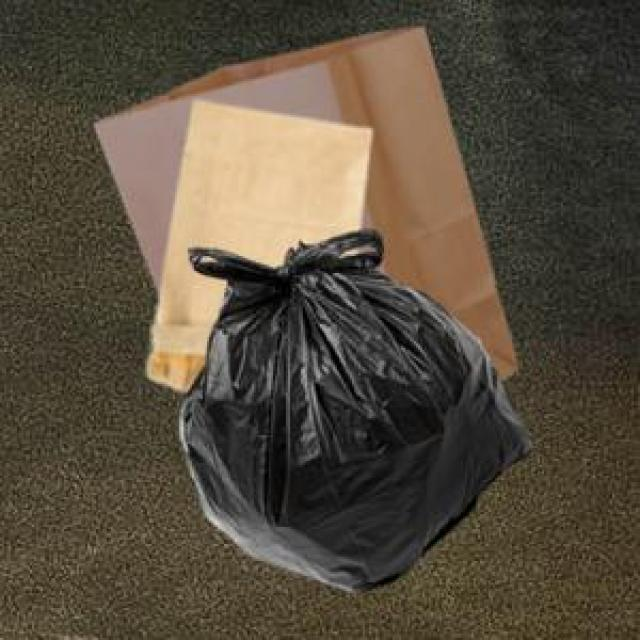miscellaneous trash: (177, 226, 527, 589)
paper: (90, 24, 514, 376), (145, 98, 367, 386)
